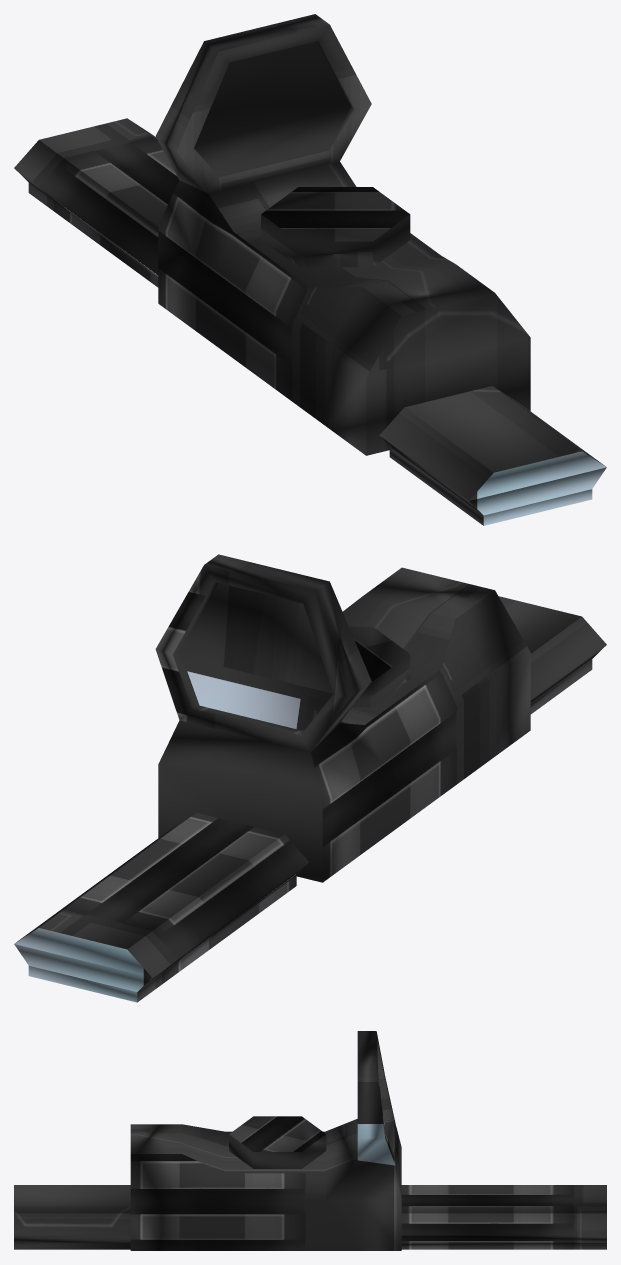
Rendered from Reddot_PicatinnyShort.fbx.
The picture shows the model from 3 angles, top to bottom: view 1: azimuth 30°, elevation 25°; view 2: azimuth 150°, elevation 25°; view 3: azimuth 270°, elevation 25°; orthographic projection. The views are drawn at different scales.
Parts seen in each view (by area): view 1: Reddot_PicatinnyShort; view 2: Reddot_PicatinnyShort; view 3: Reddot_PicatinnyShort.
Part boxes in pixels (x1,y1,x2,y2): Reddot_PicatinnyShort: (14,14,606,525); Reddot_PicatinnyShort: (14,554,606,1002); Reddot_PicatinnyShort: (14,1031,606,1250).
Size of the model in its own units: 0.0177 by 0.0714 by 0.0244.
